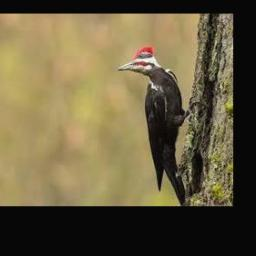Woodpecker: (118, 47, 202, 206)
